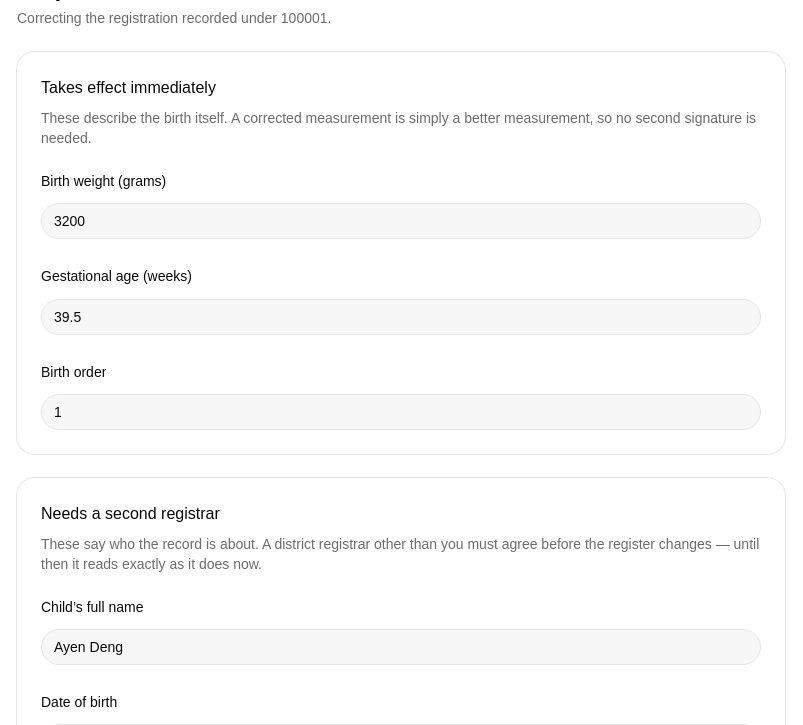
it: RequestCorrection › reports a withdrawn certificate when an applied change invalidated one
Replace the text in the number field labelled "Birth weight (grams)" with "3350" at [401, 221], box [41, 203, 761, 239]
(page scrolled)
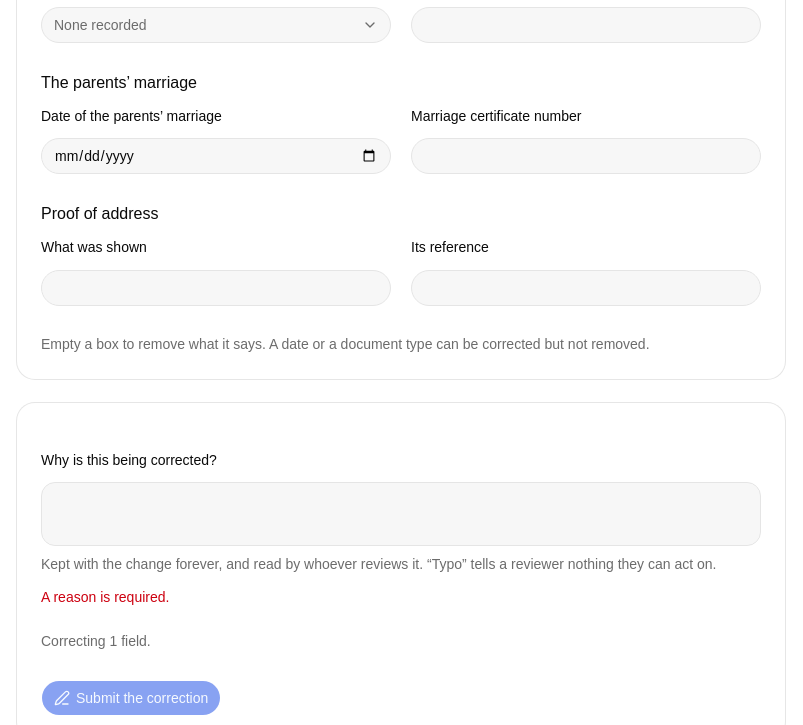
Type "Recorded against the wrong chart." into the text box labelled "Why is this being corrected?".
click(401, 514); type("Recorded against the wrong chart.")  # box [41, 482, 761, 546]
(page scrolled)
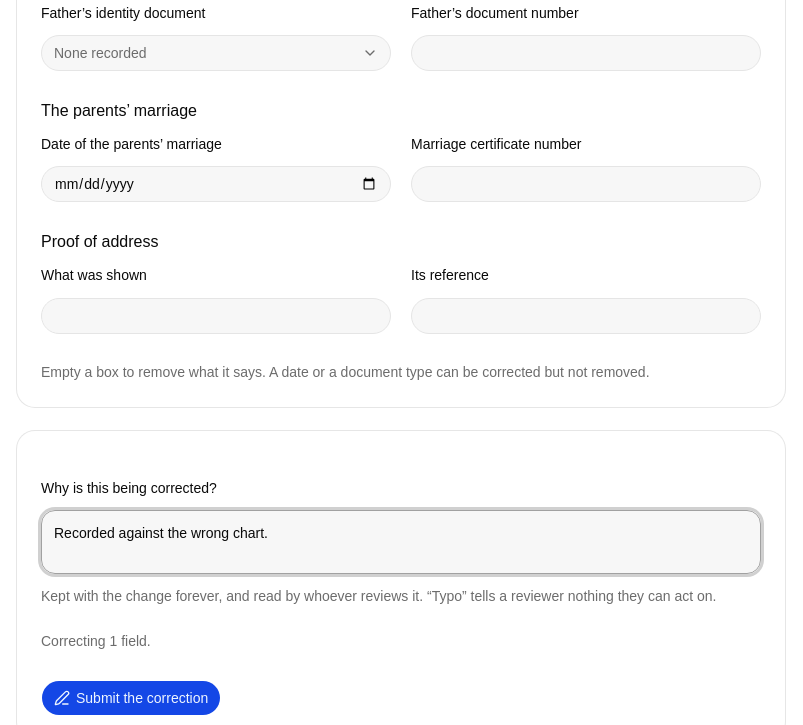
Click the button "Submit the correction".
click(131, 698)  # box [41, 680, 221, 716]
(page scrolled)
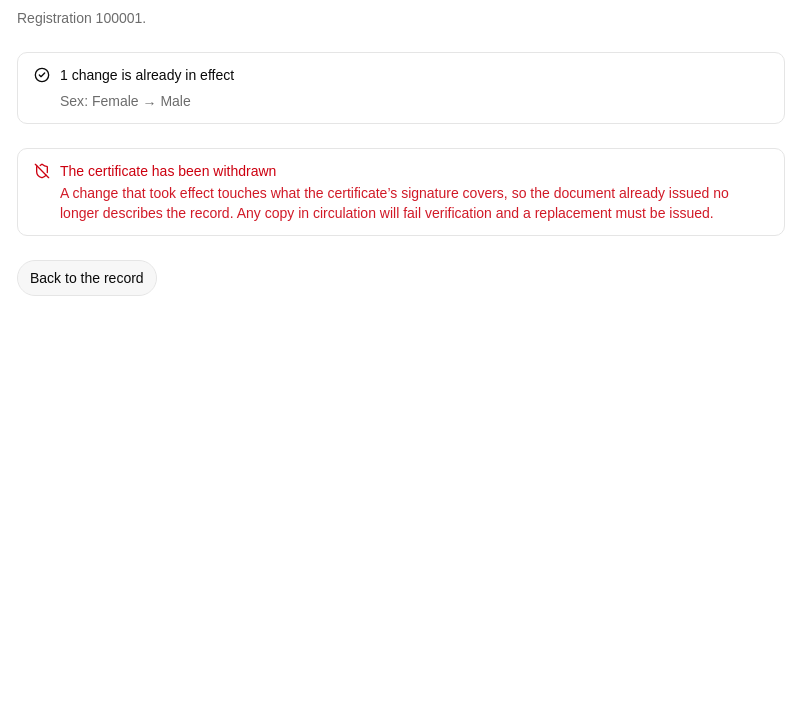
Expected: the text "The certificate has been withdrawn" is shown, [60, 163, 276, 179]
Expected: the text "will fail verification" is shown, [60, 185, 729, 221]
